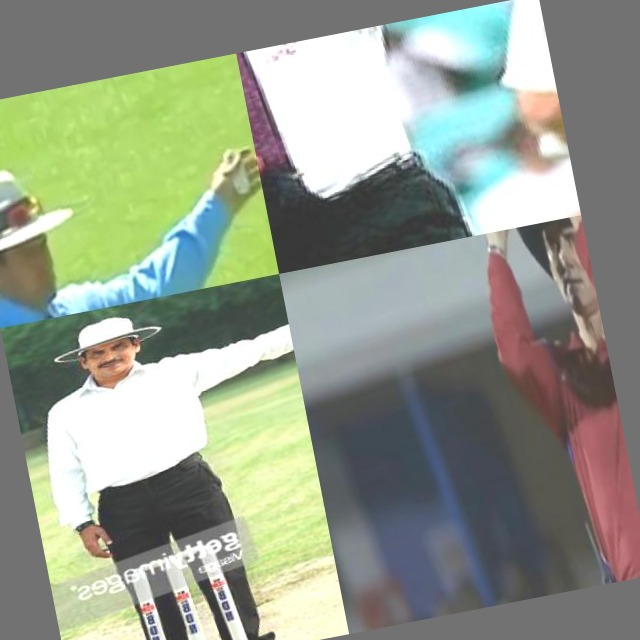No_Ball: (1, 274, 349, 640)
Out: (236, 5, 527, 274)
Six: (432, 215, 640, 604)
Wide: (0, 78, 279, 328)
